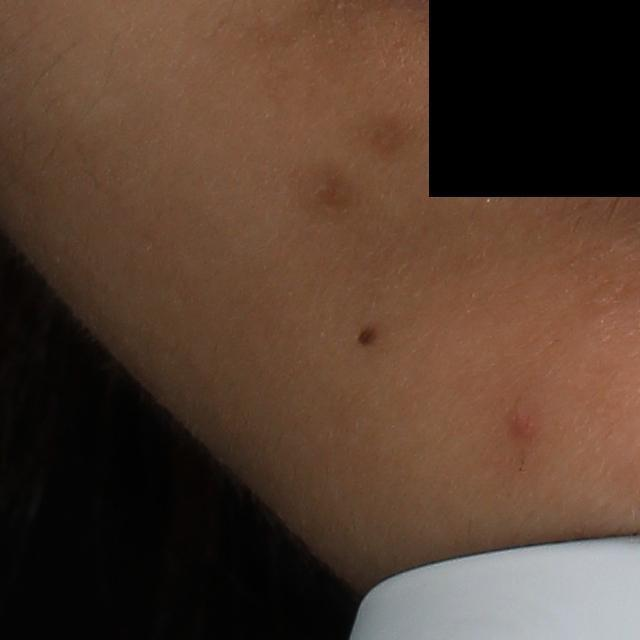nevus: (356, 325, 378, 345)
papule: (508, 407, 535, 442)
